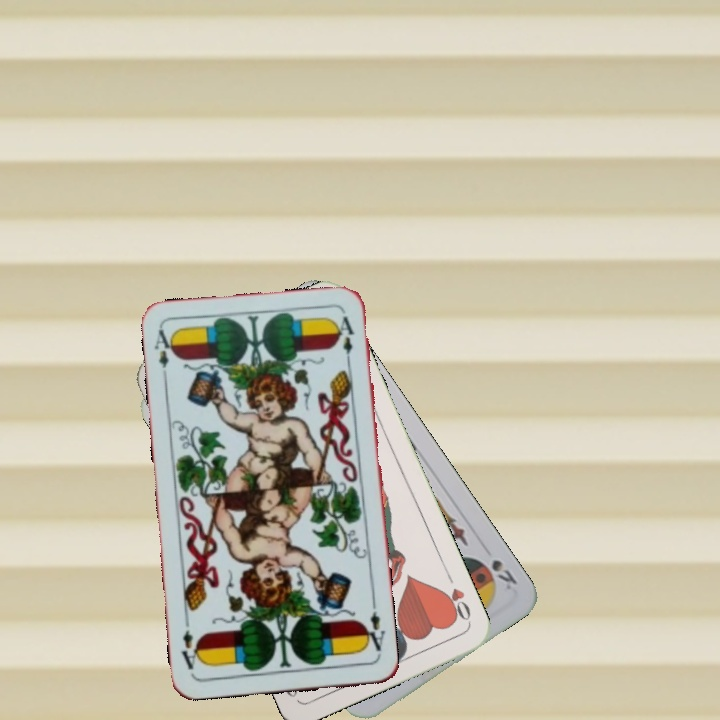EA: (150, 325, 178, 384), (359, 599, 387, 654)
HO: (438, 569, 474, 625)
SK: (487, 555, 520, 593)
